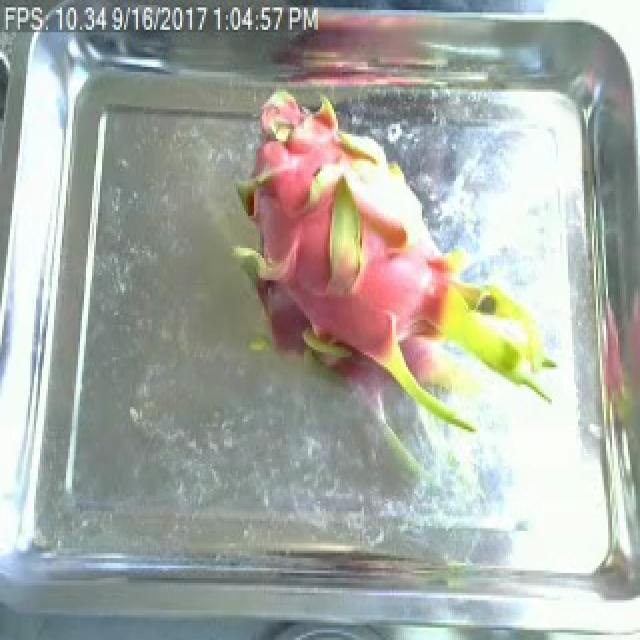fruit: (214, 74, 568, 484)
